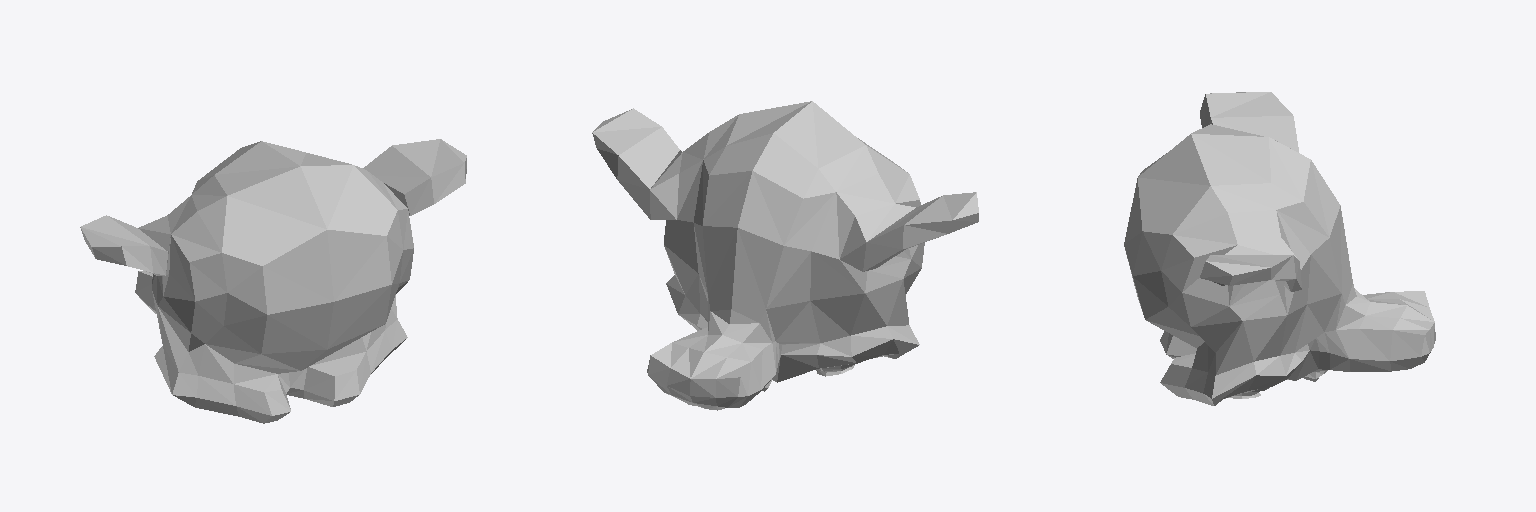
File: susan.obj
3 renders of one model, left to right at view 1: azimuth 30°, elevation 25°; view 2: azimuth 150°, elevation 25°; view 3: azimuth 270°, elevation 25°, orthographic.
Parts seen in each view (by area): view 1: Suzanne; view 2: Suzanne; view 3: Suzanne.
Boxes of the visible parts, box(x1,y1,x2,y2) form: Suzanne: box(80, 139, 466, 423); Suzanne: box(592, 101, 978, 410); Suzanne: box(1124, 92, 1435, 405).
Size of the model in its own units: 2.73 by 1.7 by 1.97.